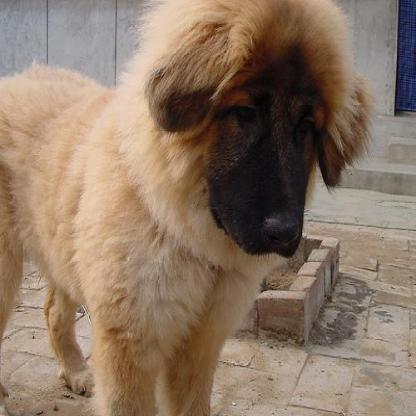Tibetan_mastiff: (0, 0, 378, 414)
